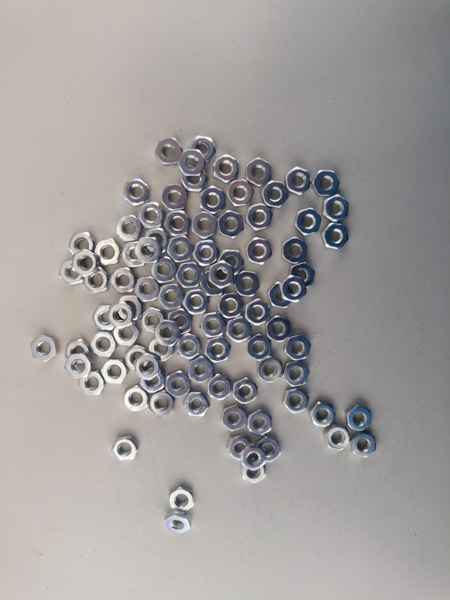nut: (155, 138, 183, 166), (73, 249, 100, 278), (261, 181, 289, 208), (246, 204, 273, 232), (167, 236, 195, 263), (92, 305, 119, 333), (286, 167, 312, 196), (246, 158, 272, 187), (214, 155, 240, 184), (134, 277, 163, 303), (154, 320, 183, 346), (123, 178, 148, 208), (294, 209, 321, 236), (246, 238, 273, 265), (178, 150, 205, 177), (31, 335, 58, 362), (121, 241, 148, 268), (68, 232, 95, 259), (83, 267, 110, 294), (112, 435, 139, 462), (309, 402, 336, 429), (281, 276, 308, 303), (151, 257, 178, 284), (312, 170, 340, 196), (323, 223, 349, 251), (281, 237, 307, 265), (227, 181, 255, 207), (218, 211, 244, 239), (199, 186, 225, 214), (182, 290, 210, 316), (200, 313, 228, 339), (188, 356, 214, 384), (191, 211, 216, 240), (209, 261, 234, 290), (65, 339, 94, 364), (190, 136, 216, 163), (165, 210, 191, 237), (283, 388, 309, 415), (283, 362, 310, 388), (284, 335, 311, 361), (227, 435, 253, 462), (221, 405, 247, 432), (218, 294, 245, 320), (158, 285, 185, 311), (205, 337, 231, 364), (140, 308, 166, 335), (138, 202, 163, 230), (116, 215, 141, 243), (325, 423, 350, 451), (177, 333, 202, 361), (65, 354, 93, 379), (193, 241, 219, 267), (347, 405, 373, 431), (149, 391, 175, 417), (101, 359, 127, 385), (162, 184, 187, 211), (109, 269, 136, 294), (257, 436, 282, 463), (234, 272, 261, 297), (134, 239, 162, 263), (181, 166, 207, 191), (169, 487, 195, 512), (248, 410, 273, 436), (268, 283, 293, 309), (168, 309, 193, 335), (90, 333, 116, 358), (95, 239, 119, 266), (60, 260, 84, 287), (165, 510, 192, 534), (233, 378, 257, 405), (208, 374, 232, 401), (267, 316, 291, 343), (176, 264, 203, 288), (112, 322, 139, 346), (78, 372, 105, 396), (246, 299, 269, 327), (248, 334, 271, 362), (352, 434, 377, 459), (324, 196, 348, 222), (258, 357, 282, 383), (242, 445, 266, 471), (184, 393, 210, 417), (291, 263, 315, 289), (221, 250, 245, 276), (200, 272, 226, 296), (166, 372, 190, 398), (124, 387, 148, 413), (135, 355, 159, 381), (243, 459, 266, 486), (144, 228, 168, 253), (109, 303, 132, 329), (125, 346, 148, 372), (227, 320, 252, 343), (119, 297, 142, 321), (142, 370, 164, 394), (149, 341, 174, 362)
